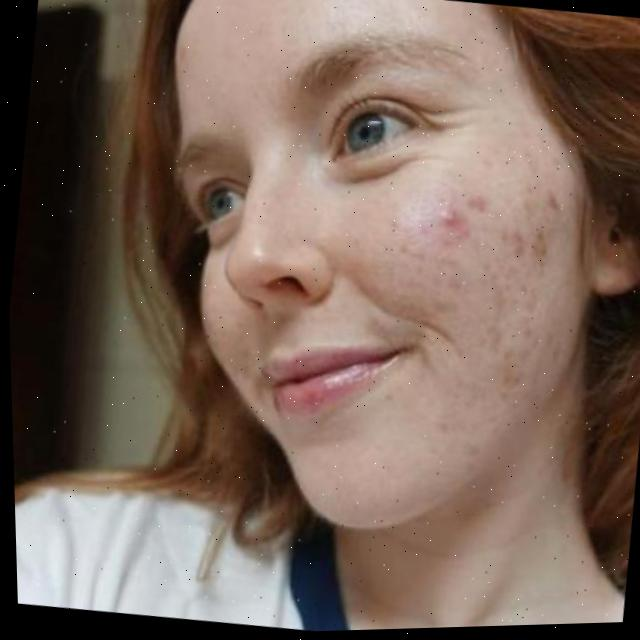Acne: (414, 158, 549, 320)
